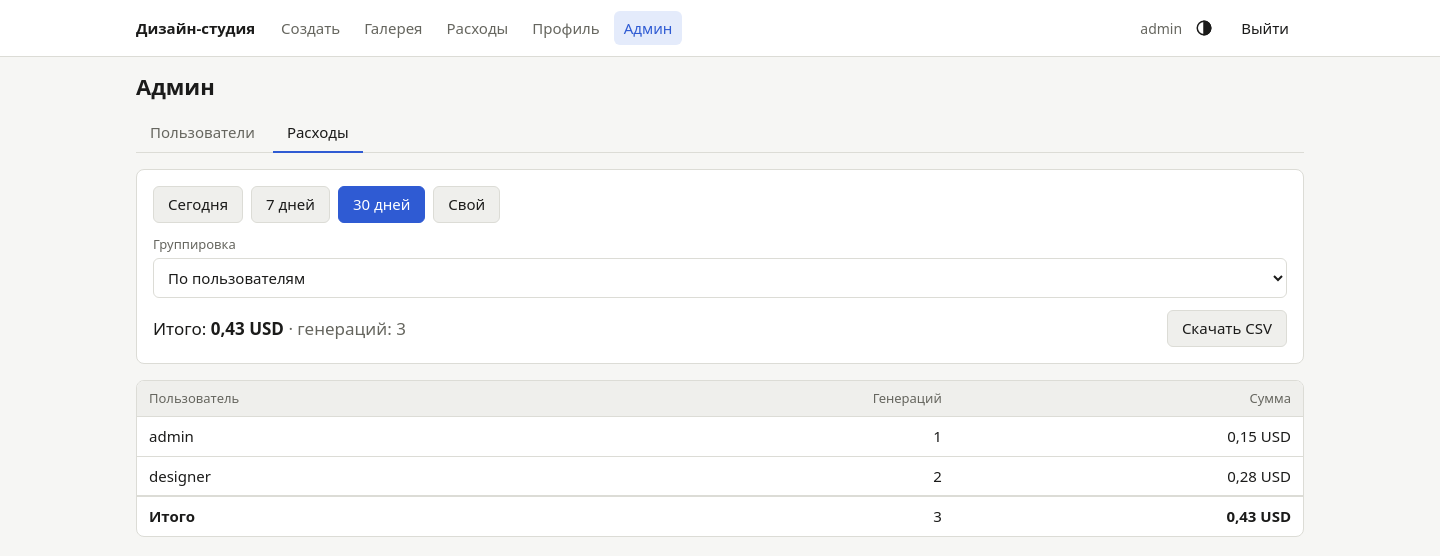
it: T14 · 4: расходы › пустой период показывает пустое состояние
Click the button with test id "period-custom" at point(467, 204), box left=433, top=186, right=500, bottom=222
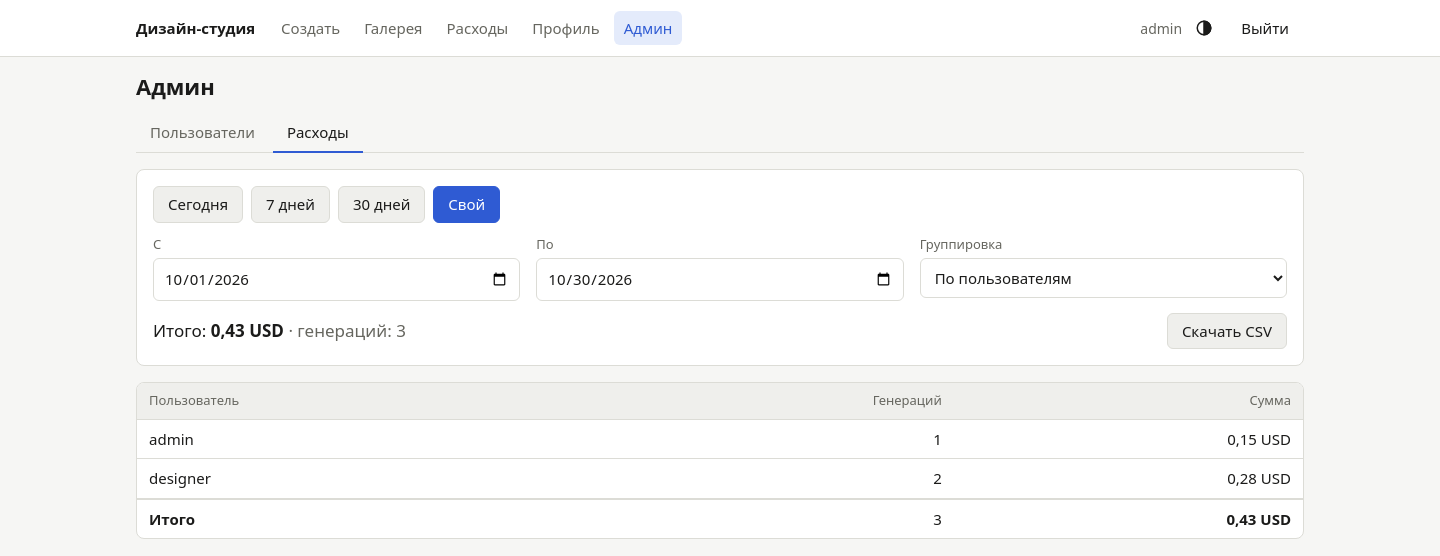
Type "2020-01-01" into the date field with id "spend-from" at point(337, 279), box left=153, top=258, right=520, bottom=300
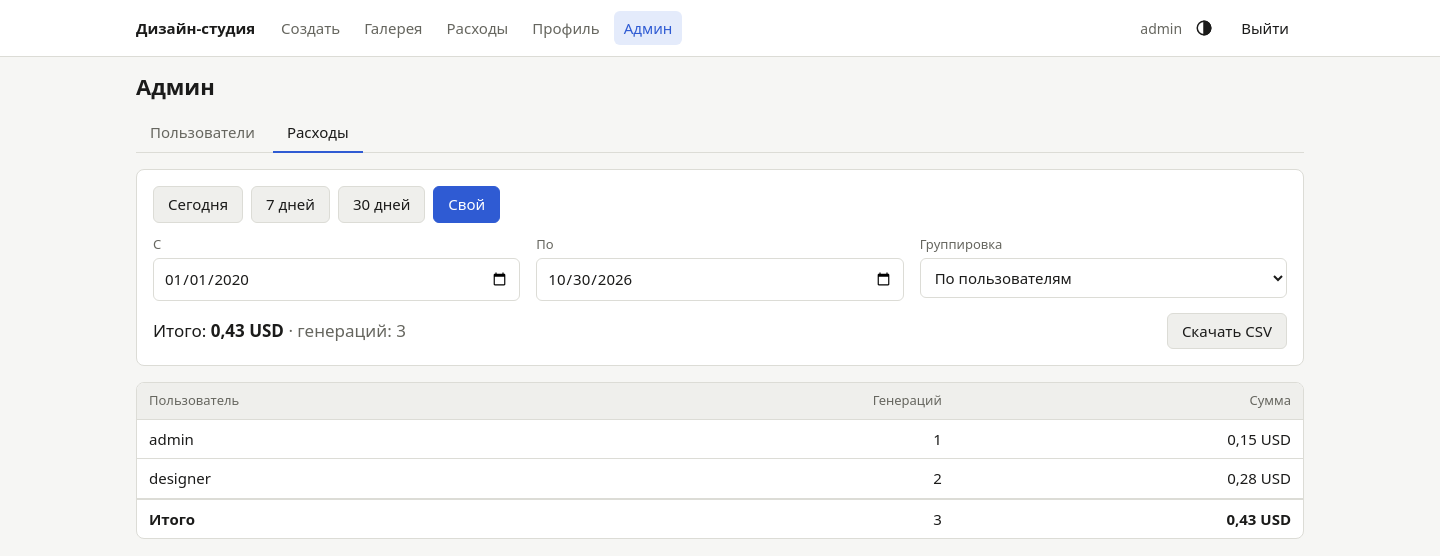
Type "2020-01-31" into the date field with id "spend-to" at point(720, 279), box left=536, top=258, right=904, bottom=300
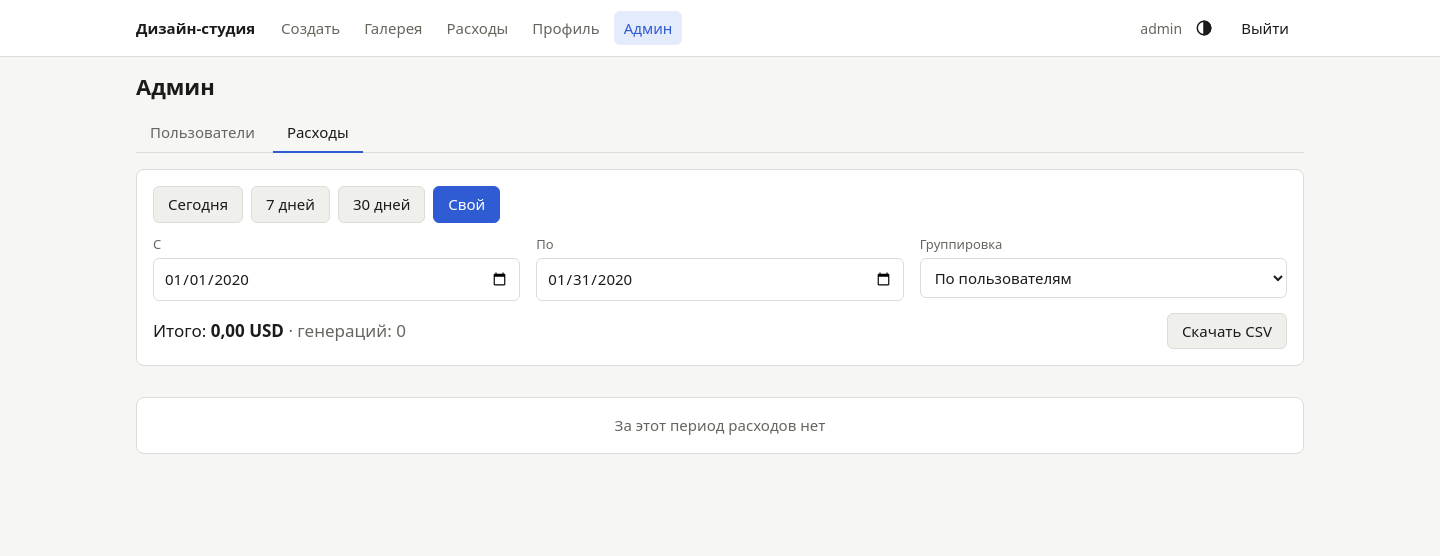
Expected: no rows with test id "spend-row" are shown
Expected: the text "За этот период расходов нет" is shown, left=136, top=397, right=1304, bottom=454
